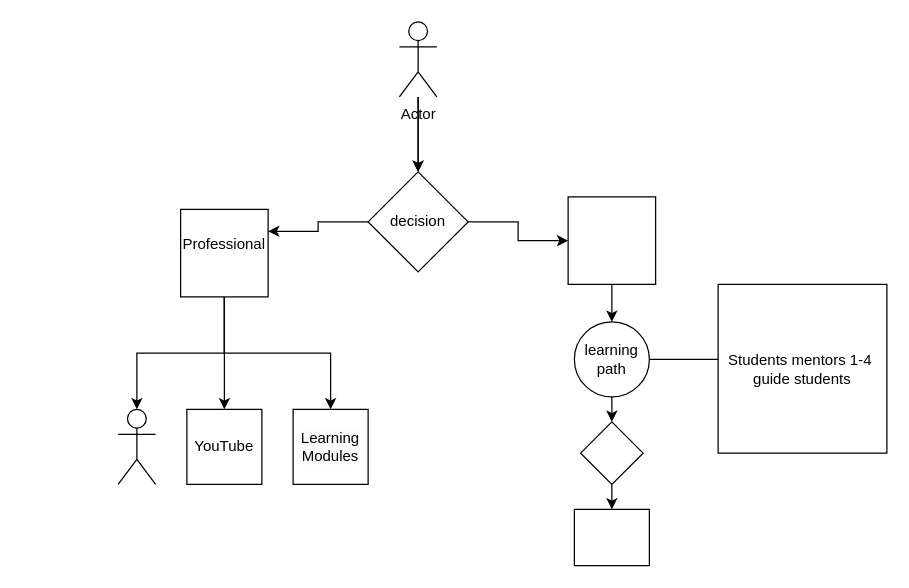
Some shapes in this 909 by 588 pixel diagram are drawn without their labels. Each missing label, with the box of its shape:
Community: (567, 196, 656, 284)
Community will decide...: (573, 508, 649, 566)
Experts.. on Online learning platfor: (117, 408, 156, 484)
